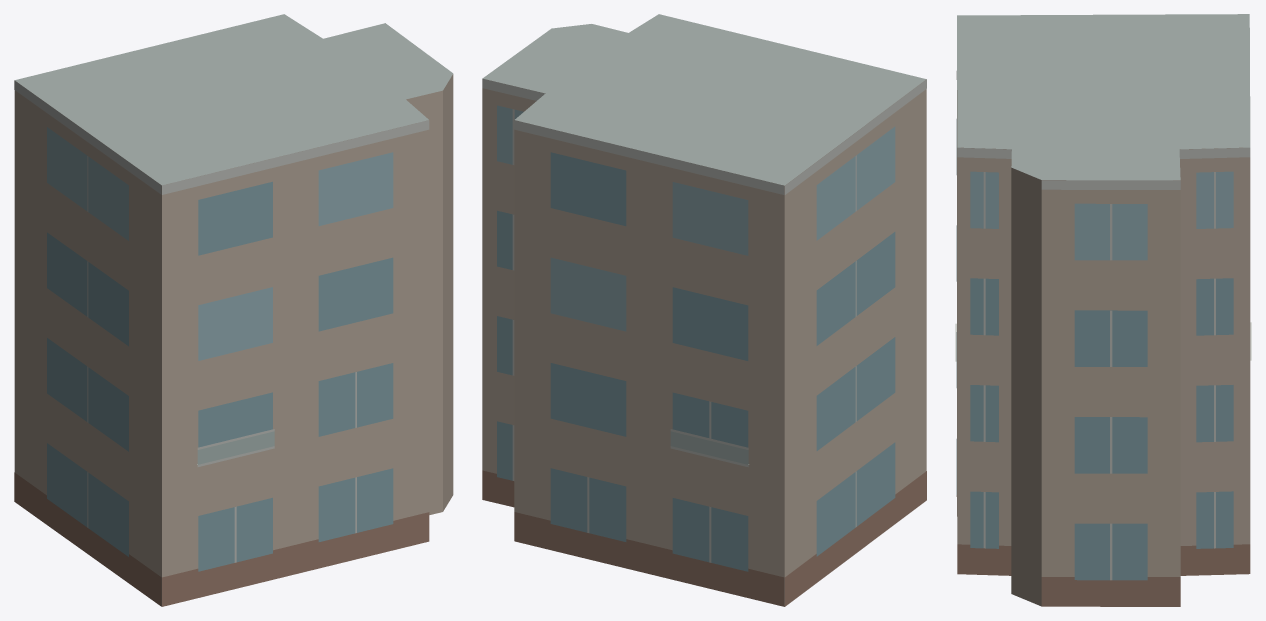
Rendered from survey-upis-32550755.glb.
3 views of the same model, side by side, from view 1: azimuth 30°, elevation 25°; view 2: azimuth 150°, elevation 25°; view 3: azimuth 270°, elevation 25° (orthographic).
Visible parts, largest first — view 1: survey-upis-32550755.tmp; view 2: survey-upis-32550755.tmp; view 3: survey-upis-32550755.tmp.
Boxes of the visible parts, <box> form: survey-upis-32550755.tmp: <box>14,14,453,606</box>; survey-upis-32550755.tmp: <box>482,14,926,606</box>; survey-upis-32550755.tmp: <box>955,14,1251,606</box>.
Bounding box in the file's own units: 8.96 × 10.7 × 6.74.
